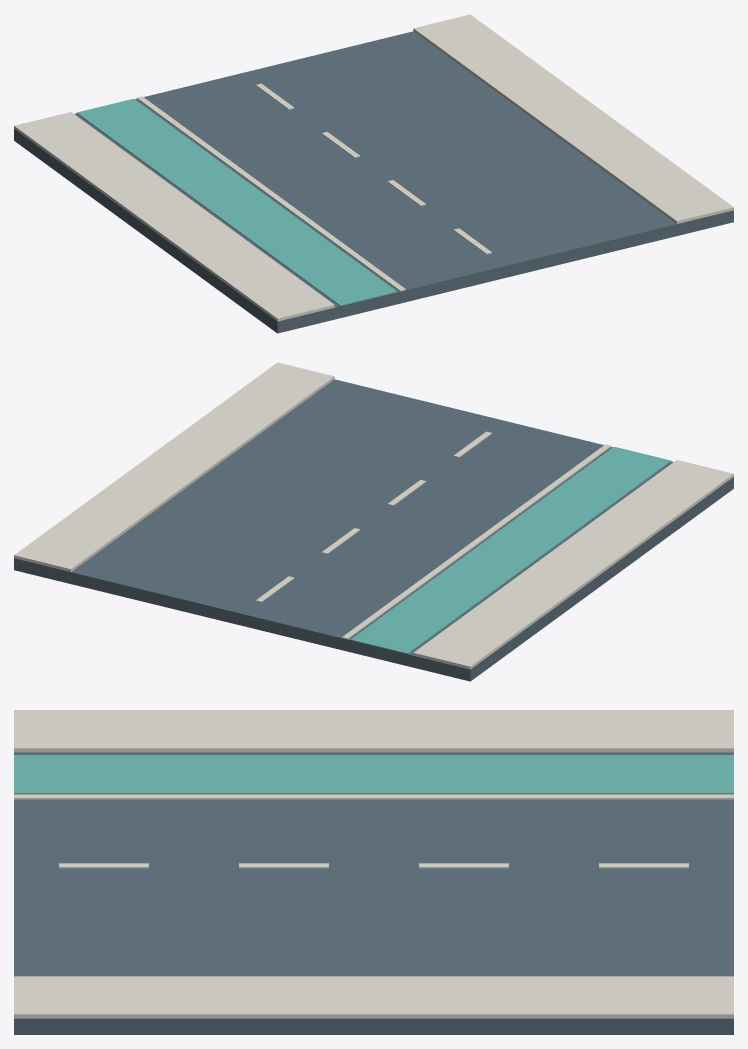
File: voxel-city-districts-road-bike-lane-a78309a4__24819.glb
3 renders of one model, top to bottom at view 1: azimuth 30°, elevation 25°; view 2: azimuth 150°, elevation 25°; view 3: azimuth 270°, elevation 25°, orthographic. The views are drawn at different scales.
Visible parts, largest first — view 1: road-bike-lane-dark, road-bike-lane-concrete, road-bike-lane-accent; view 2: road-bike-lane-dark, road-bike-lane-concrete, road-bike-lane-accent; view 3: road-bike-lane-dark, road-bike-lane-concrete, road-bike-lane-accent.
Boxes of the visible parts, bbox=[...] form: road-bike-lane-dark: bbox=[14, 31, 733, 333]; road-bike-lane-concrete: bbox=[14, 14, 733, 321]; road-bike-lane-accent: bbox=[77, 98, 397, 306]; road-bike-lane-dark: bbox=[14, 379, 733, 681]; road-bike-lane-concrete: bbox=[14, 362, 733, 669]; road-bike-lane-accent: bbox=[350, 446, 670, 654]; road-bike-lane-dark: bbox=[14, 752, 733, 1034]; road-bike-lane-concrete: bbox=[14, 710, 733, 1018]; road-bike-lane-accent: bbox=[14, 755, 733, 793].
Size of the model in its own units: 8 by 0.25 by 8.
